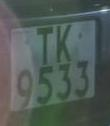3: (73, 56, 93, 103), (55, 61, 76, 103)
5: (34, 63, 57, 105)
9: (13, 64, 37, 110)
K: (55, 19, 76, 68)
T: (30, 22, 57, 71)
